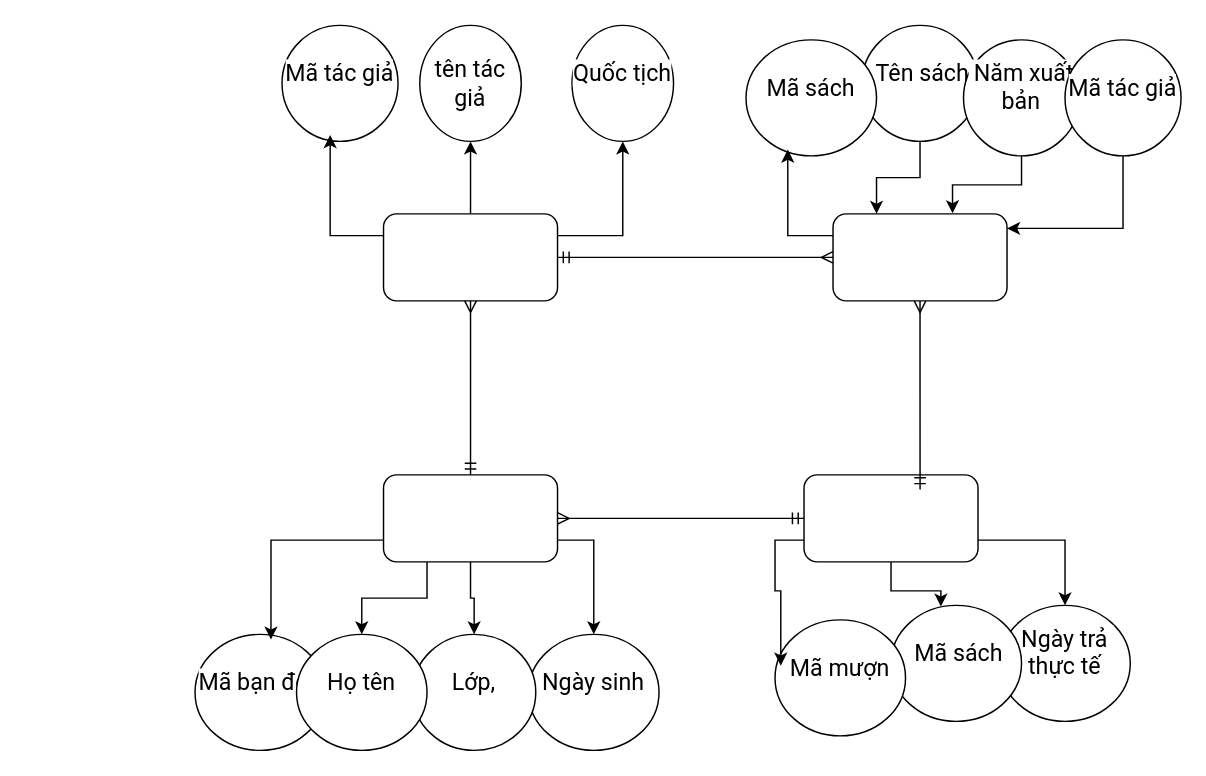
Image size: 1206x776. Some labels were removed from this diagram. Here are the shapes that lost their labels. From the top down, the centre of each, then its label:
At pixel 470 256: "Author".
At pixel 919 256: "Book".
At pixel 470 517: "Reader".
At pixel 890 517: "BorrowDetail".
